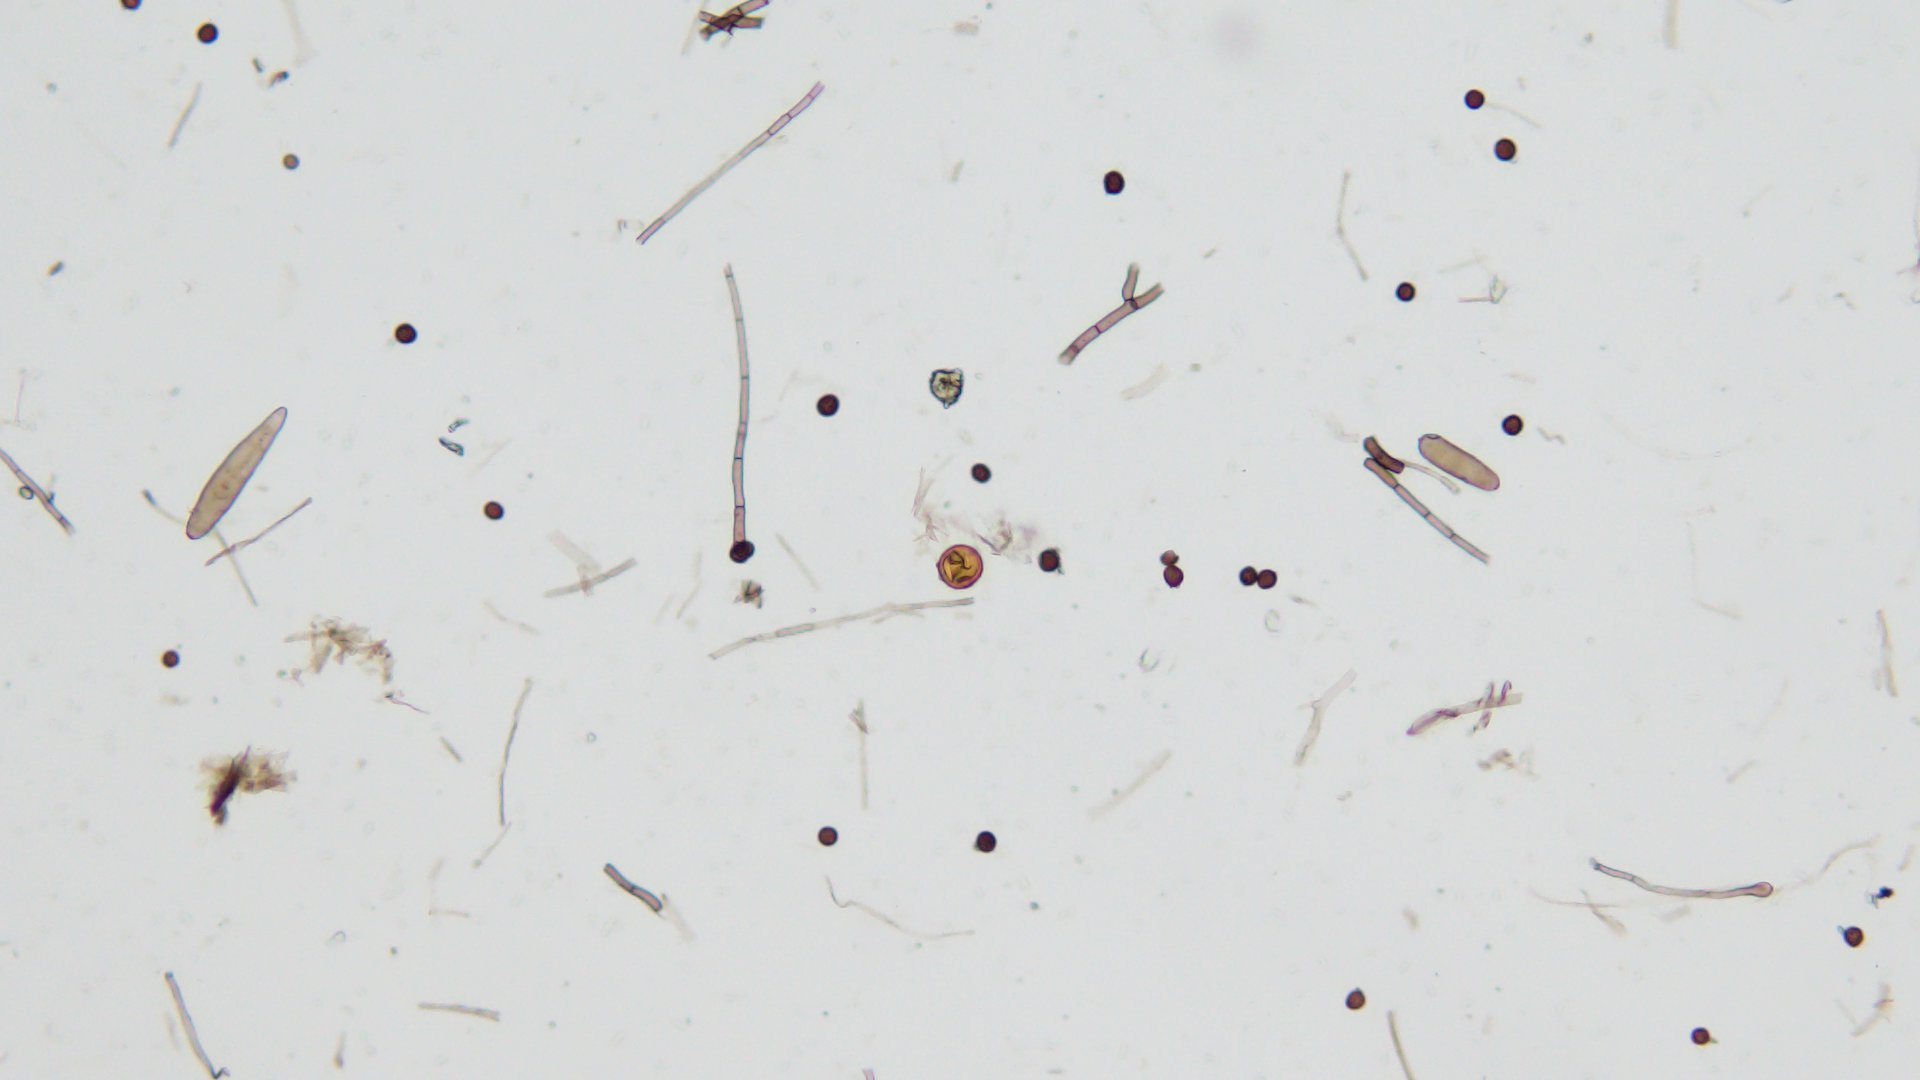dbb_spore: (185, 407, 285, 541), (1414, 431, 1502, 493)
shs_spore: (1036, 549, 1063, 572), (731, 541, 756, 563), (1491, 140, 1515, 162), (1255, 570, 1278, 592), (1237, 566, 1258, 589), (394, 322, 417, 343), (1342, 988, 1365, 1009), (818, 394, 839, 417), (1464, 88, 1486, 109), (196, 22, 218, 44), (975, 829, 996, 851), (971, 462, 992, 483), (1396, 282, 1418, 303), (483, 501, 505, 521), (818, 825, 840, 845), (1162, 567, 1183, 587), (1501, 417, 1523, 435), (162, 649, 182, 669), (1844, 926, 1863, 945), (1691, 1026, 1710, 1044)
xb_spore: (934, 543, 986, 593)
